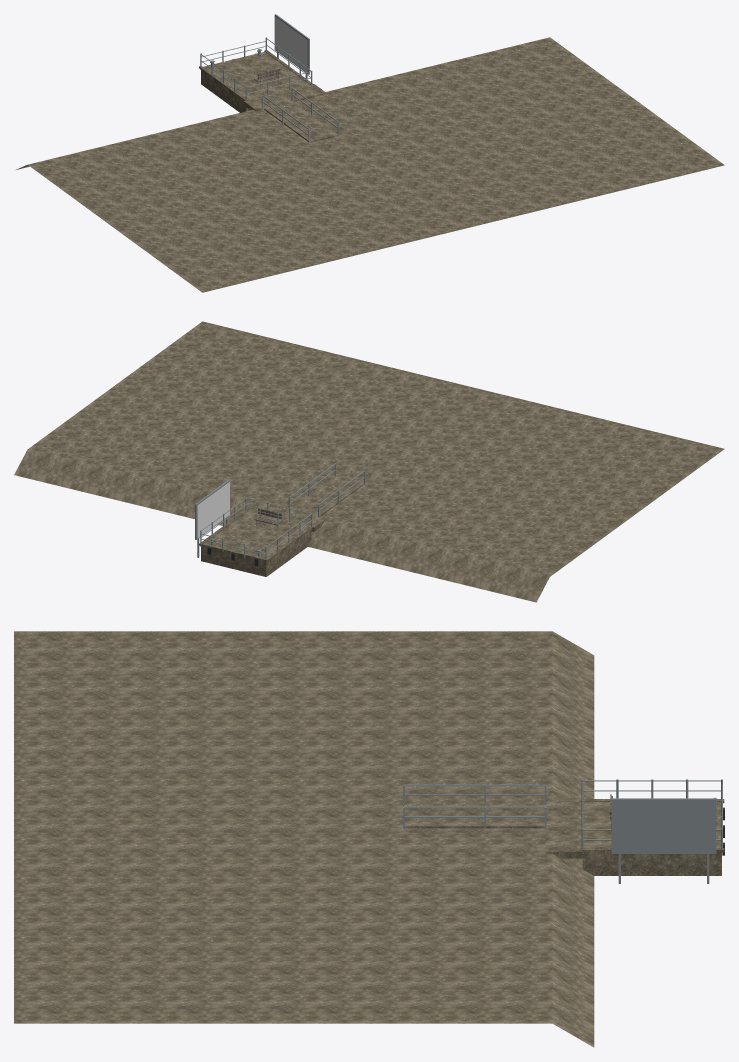
File: lake_pier.glb
3 views of the same model, one above another, from view 1: azimuth 30°, elevation 25°; view 2: azimuth 150°, elevation 25°; view 3: azimuth 270°, elevation 25° (orthographic). The views are drawn at different scales.
Parts seen in each view (by area): view 1: lake_pier_BakedForeground; view 2: lake_pier_BakedForeground; view 3: lake_pier_BakedForeground.
Boxes of the visible parts, <box> form: lake_pier_BakedForeground: <box>16,14,724,292</box>; lake_pier_BakedForeground: <box>14,321,724,602</box>; lake_pier_BakedForeground: <box>14,631,724,1047</box>.
Size of what is drawn, in the model's own units: 40 by 4.58 by 30.63.
Materials: 6 (2 with a texture image).
